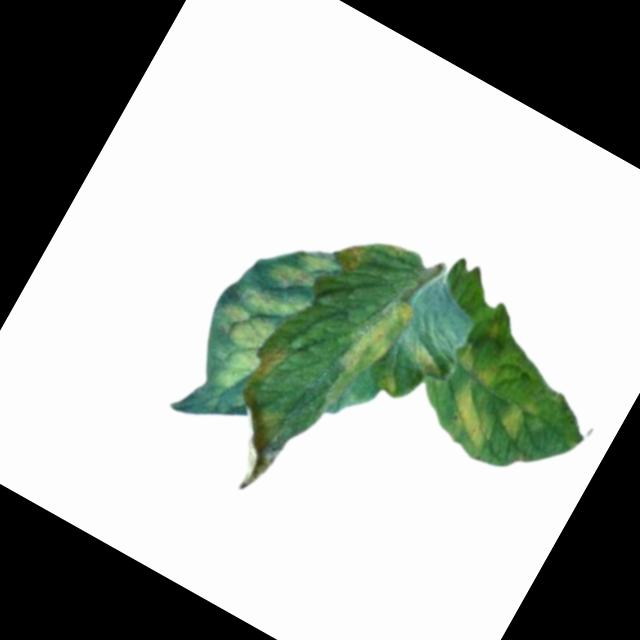Leaf_Mold: (189, 222, 343, 412), (335, 288, 420, 392), (437, 377, 510, 452), (239, 341, 292, 413), (493, 392, 545, 448), (453, 343, 506, 390), (409, 344, 447, 382)
